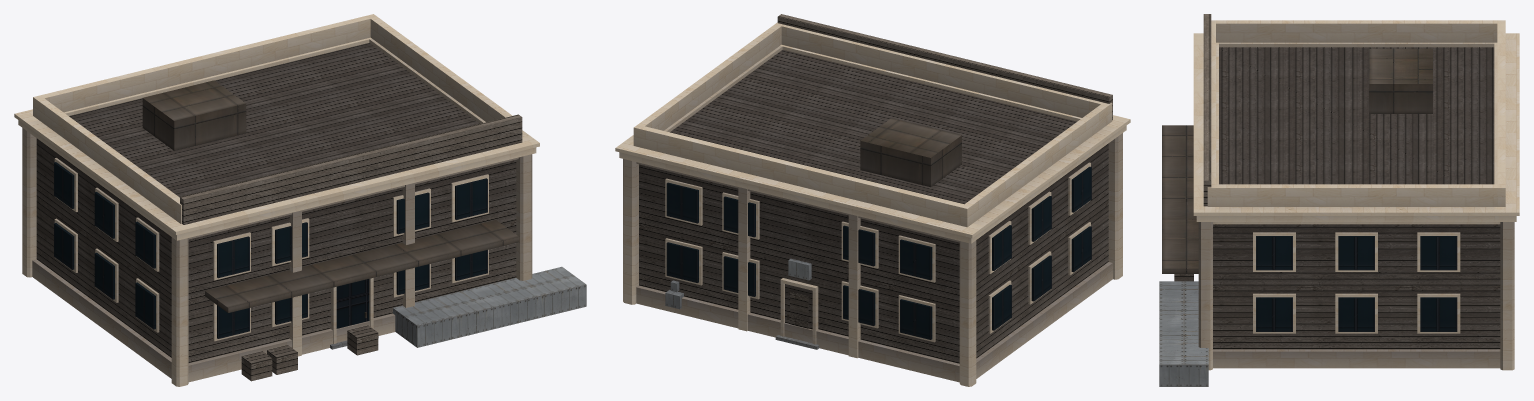
The model's file is otter-creek-feed-store_lod0.gltf.
3 renders of one model, left to right at view 1: azimuth 30°, elevation 25°; view 2: azimuth 150°, elevation 25°; view 3: azimuth 270°, elevation 25°, orthographic. The views are drawn at different scales.
Parts seen in each view (by area): view 1: otter-creek-feed-store_main, otter-creek-feed-store__v4_stone_detail, otter-creek-feed-store__v4_metal_detail, otter-creek-feed-store_fen_07-glass-curtain-blue_1_t, otter-creek-feed-store__false_front, otter-creek-feed-store__loading_dock, otter-creek-feed-store_fen_04-limestone_0, otter-creek-feed-store__feed_sack_c, otter-creek-feed-store__feed_sack_a, otter-creek-feed-store__feed_sack_b; view 2: otter-creek-feed-store_main, otter-creek-feed-store__v4_stone_detail, otter-creek-feed-store_fen_07-glass-curtain-blue_1_t, otter-creek-feed-store_fen_04-limestone_0, otter-creek-feed-store__v4_metal_detail, otter-creek-feed-store__false_front, otter-creek-feed-store_fen_14-steel-panel_6, otter-creek-feed-store_fen_18-timber-siding_4, otter-creek-feed-store_fen_18-timber-siding_5_t; view 3: otter-creek-feed-store_main, otter-creek-feed-store__v4_stone_detail, otter-creek-feed-store__v4_metal_detail, otter-creek-feed-store_fen_07-glass-curtain-blue_1_t, otter-creek-feed-store__loading_dock, otter-creek-feed-store_fen_04-limestone_0, otter-creek-feed-store__false_front.
Boxes of the visible parts, x1,y1,x2,y2 form: otter-creek-feed-store_main: [36, 43, 516, 362]; otter-creek-feed-store__v4_stone_detail: [14, 14, 539, 386]; otter-creek-feed-store__v4_metal_detail: [142, 80, 519, 312]; otter-creek-feed-store_fen_07-glass-curtain-blue_1_t: [54, 162, 487, 338]; otter-creek-feed-store__false_front: [180, 114, 522, 224]; otter-creek-feed-store__loading_dock: [393, 266, 586, 347]; otter-creek-feed-store_fen_04-limestone_0: [54, 158, 488, 344]; otter-creek-feed-store__feed_sack_c: [347, 325, 378, 355]; otter-creek-feed-store__feed_sack_a: [241, 351, 272, 381]; otter-creek-feed-store__feed_sack_b: [267, 345, 297, 374]; otter-creek-feed-store_main: [639, 50, 1108, 363]; otter-creek-feed-store__v4_stone_detail: [615, 22, 1130, 386]; otter-creek-feed-store_fen_07-glass-curtain-blue_1_t: [666, 166, 1091, 339]; otter-creek-feed-store_fen_04-limestone_0: [665, 162, 1090, 344]; otter-creek-feed-store__v4_metal_detail: [860, 118, 961, 187]; otter-creek-feed-store__false_front: [777, 14, 1112, 119]; otter-creek-feed-store_fen_14-steel-panel_6: [665, 258, 811, 309]; otter-creek-feed-store_fen_18-timber-siding_4: [785, 284, 812, 329]; otter-creek-feed-store_fen_18-timber-siding_5_t: [790, 292, 808, 328]; otter-creek-feed-store_main: [1213, 47, 1500, 349]; otter-creek-feed-store__v4_stone_detail: [1193, 20, 1519, 370]; otter-creek-feed-store__v4_metal_detail: [1162, 48, 1432, 273]; otter-creek-feed-store_fen_07-glass-curtain-blue_1_t: [1256, 236, 1457, 331]; otter-creek-feed-store__loading_dock: [1159, 281, 1208, 386]; otter-creek-feed-store_fen_04-limestone_0: [1253, 232, 1460, 333]; otter-creek-feed-store__false_front: [1203, 14, 1211, 206].
Bounding box in the file's own units: 18.61 × 8.35 × 14.61.
